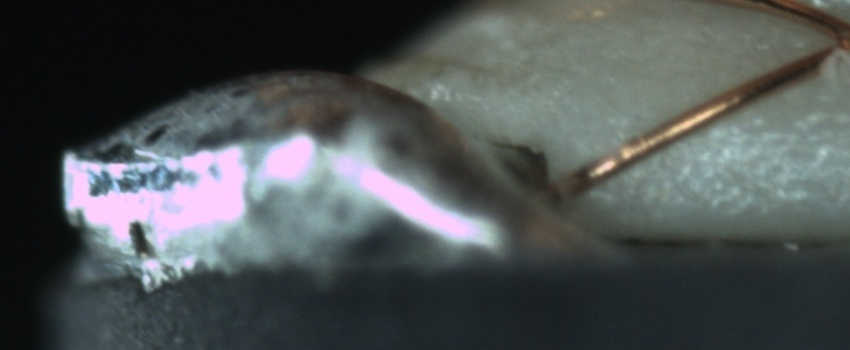CL: (804, 6, 850, 68)
